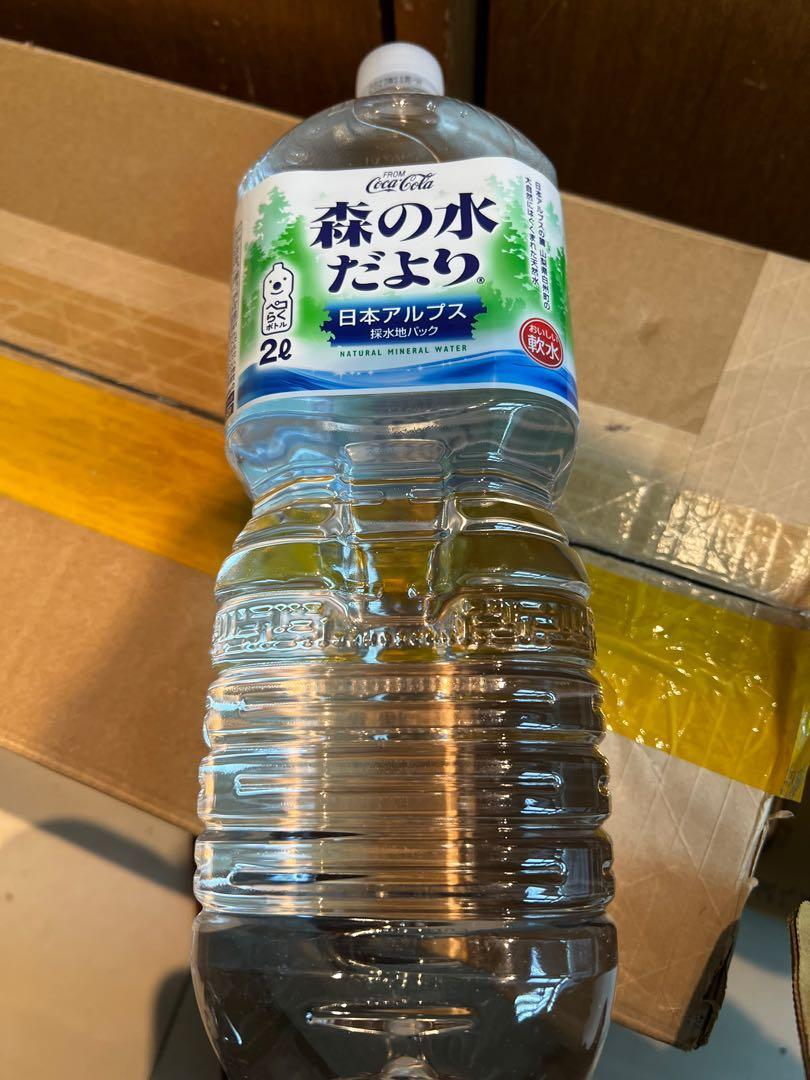plastic: (194, 44, 621, 1080)
